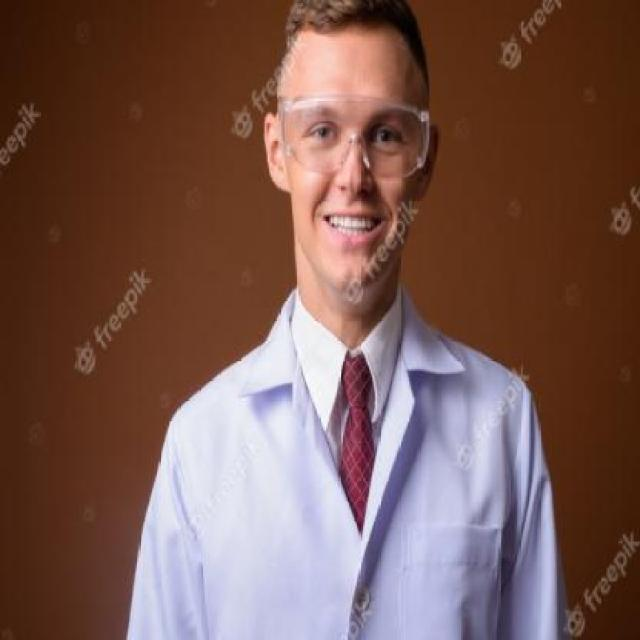face_nomask: (296, 111, 413, 244)
glasses: (275, 90, 431, 181)
head_nohelmet: (276, 8, 432, 63)
person: (162, 3, 526, 640)
